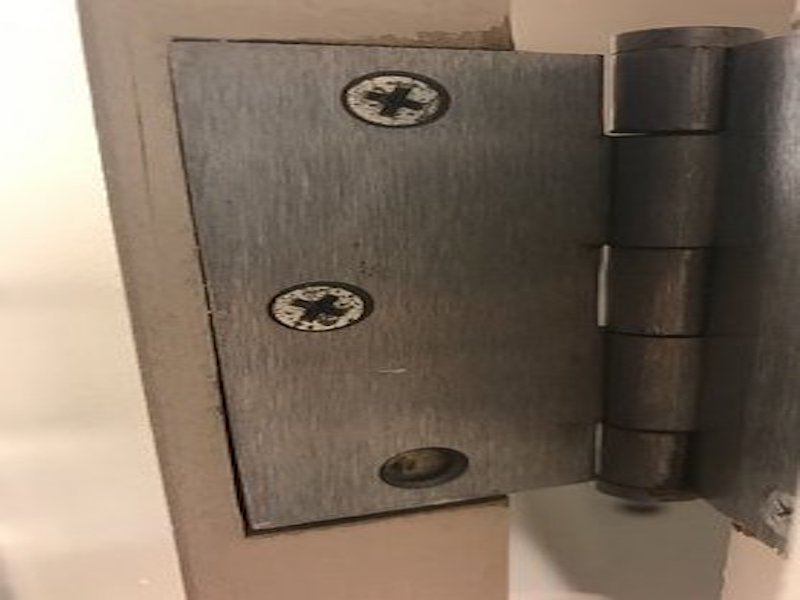hole: (378, 446, 471, 493)
screw: (340, 69, 455, 131), (266, 279, 378, 337)
